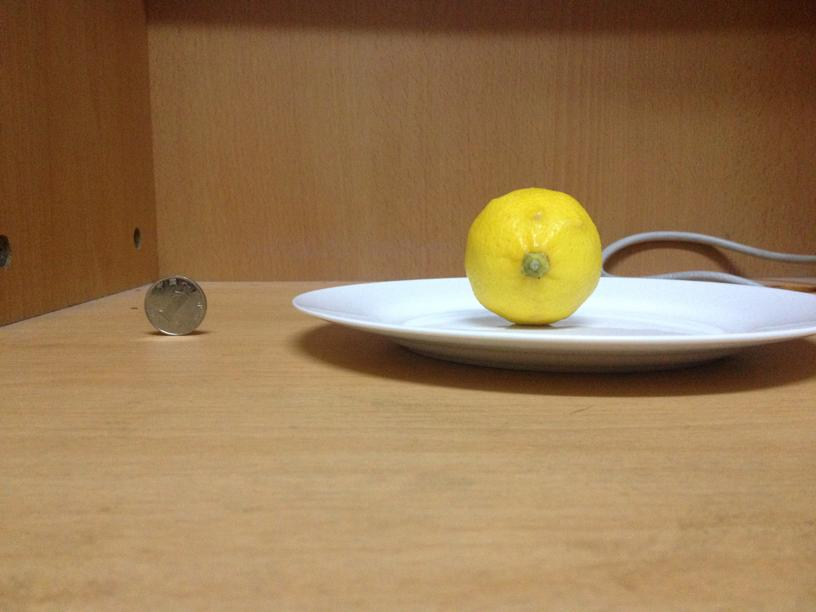coin: (143, 276, 208, 334)
lemon: (465, 187, 602, 322)
